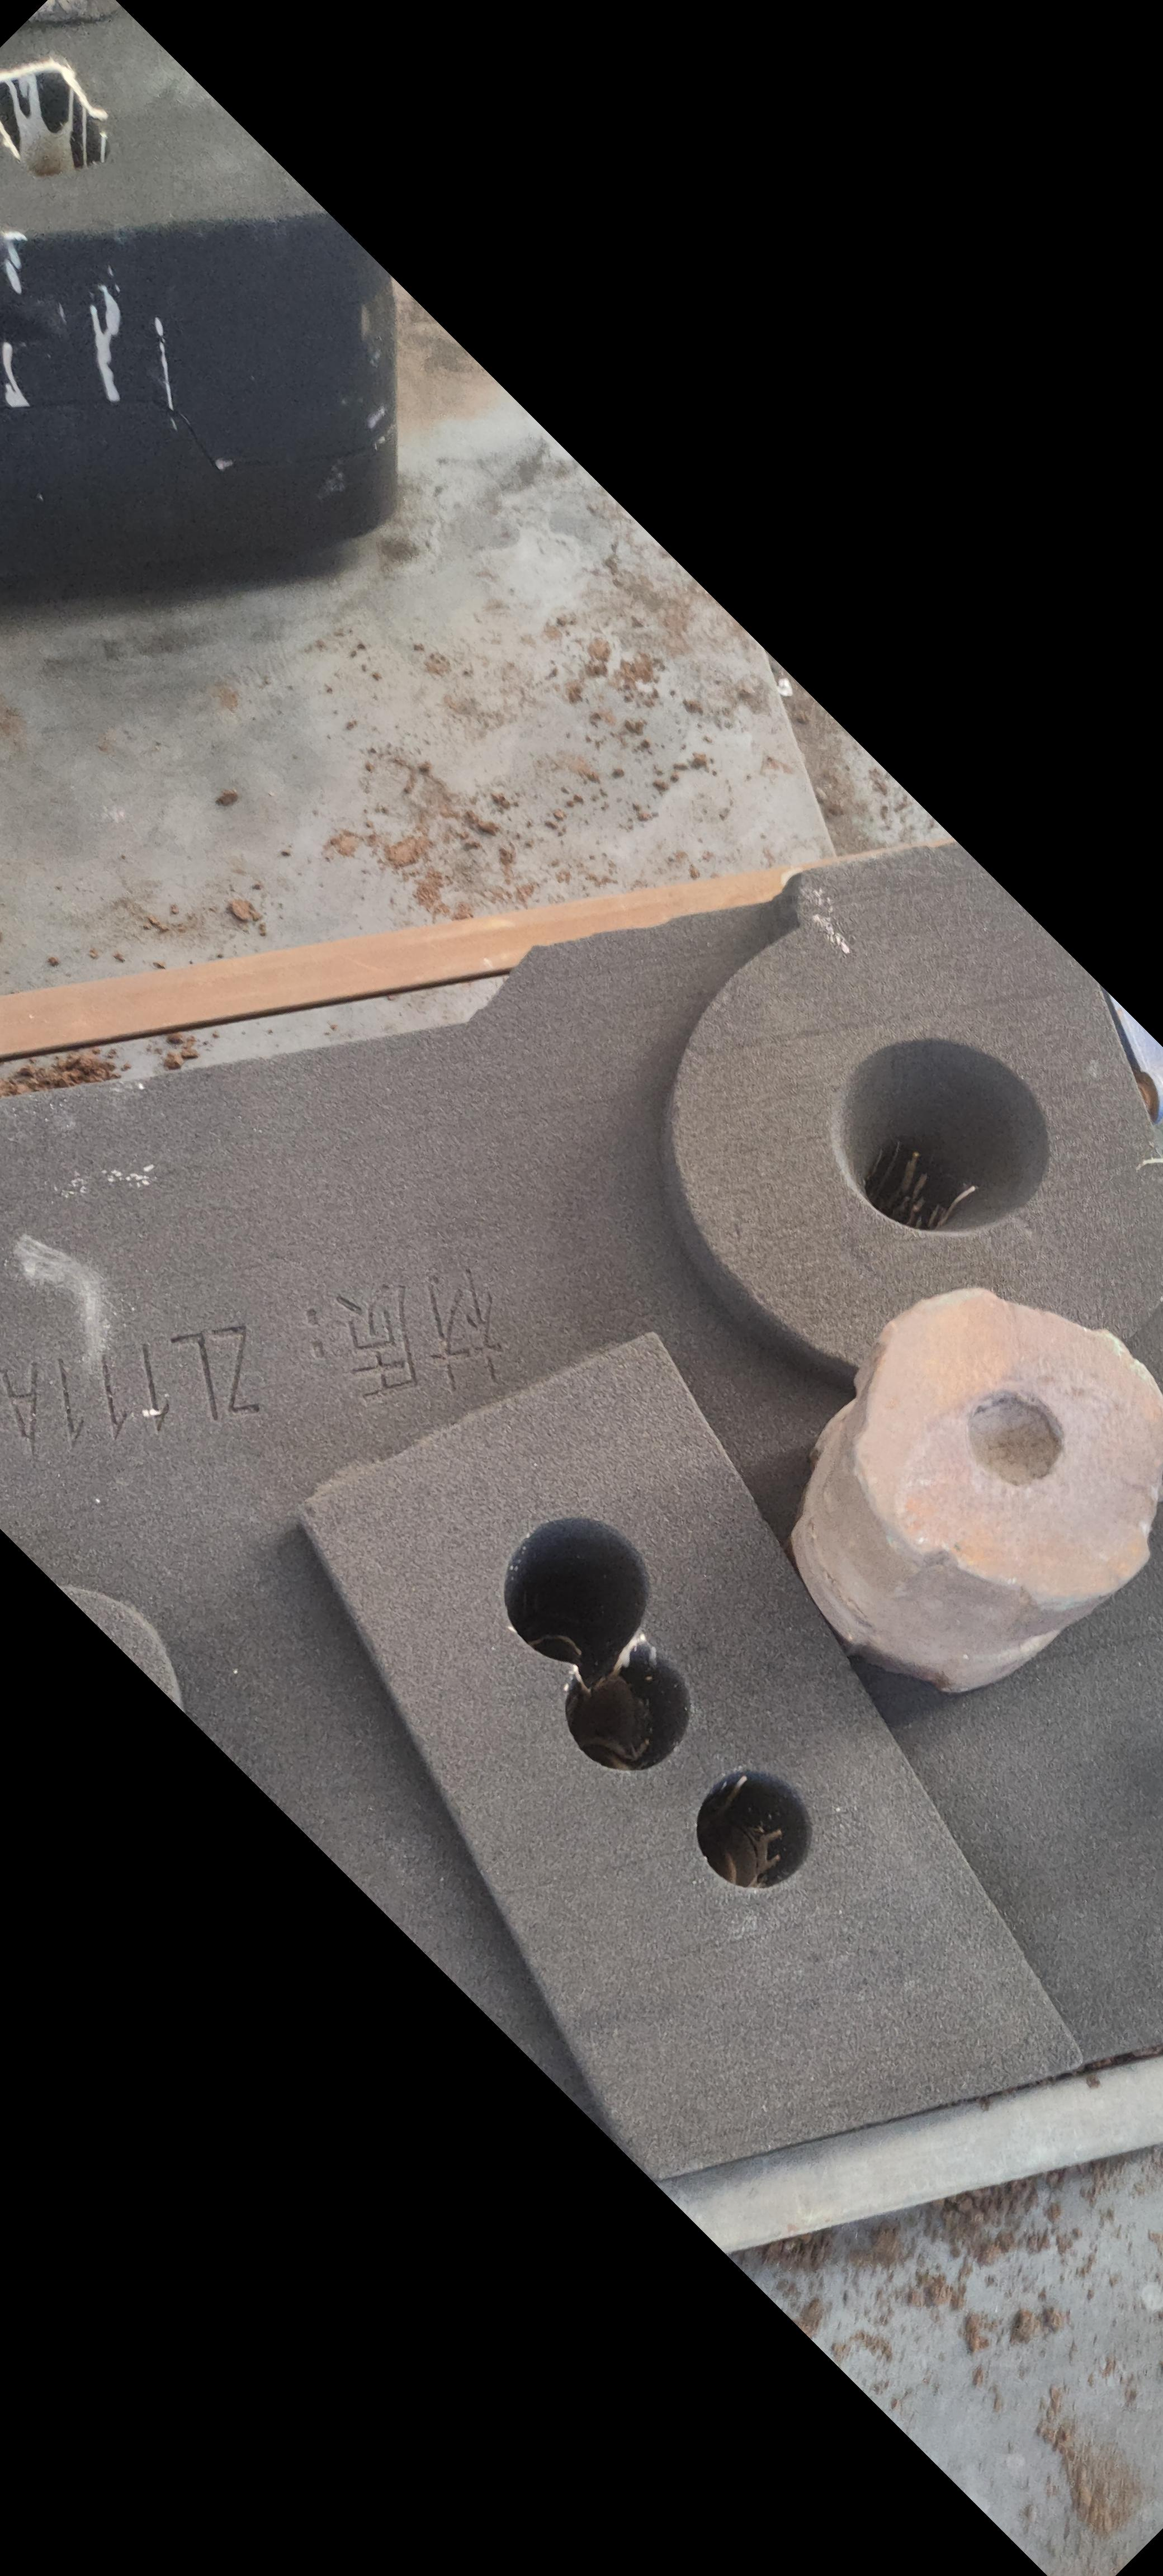pouring hole: (830, 1038, 1051, 1234)
